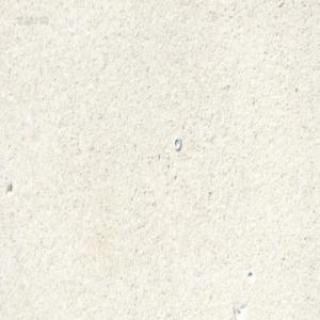Washertrack_idkeyframe: (165, 135, 188, 159)
